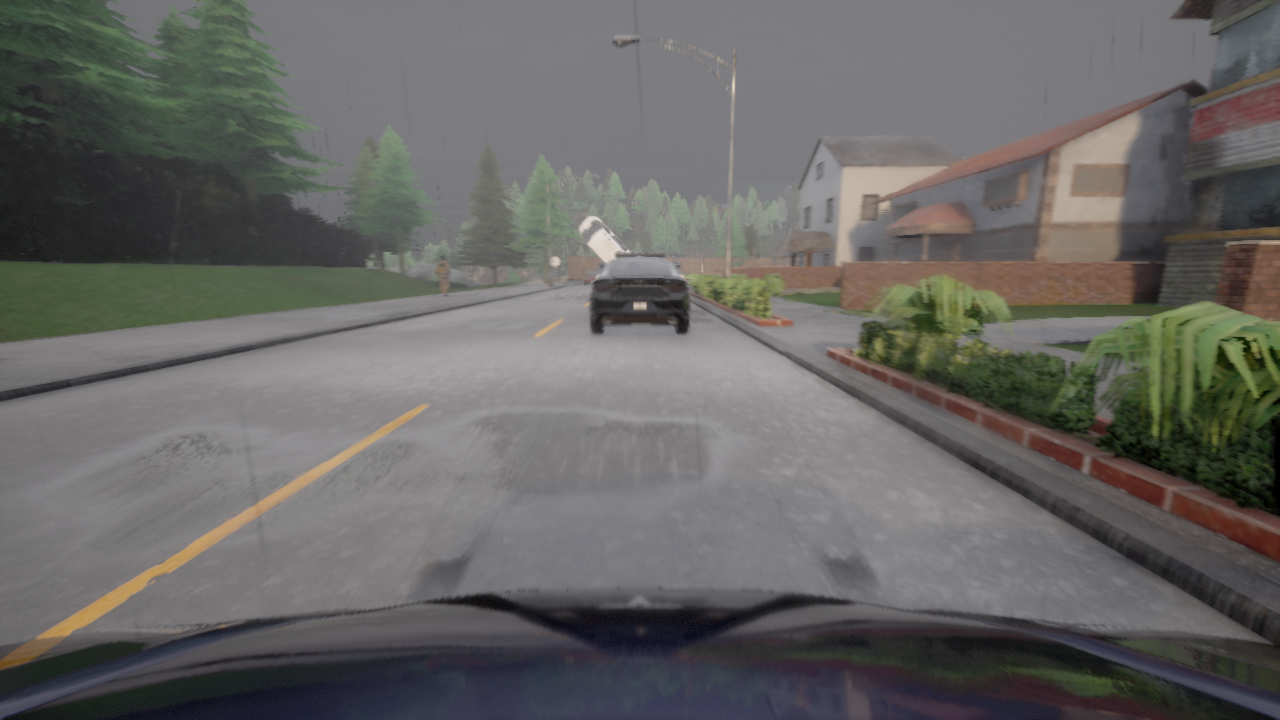cyclist: (0, 588, 1279, 719), (590, 252, 689, 333), (578, 215, 630, 263), (583, 269, 601, 285)
pedestrian: (436, 255, 449, 296)
